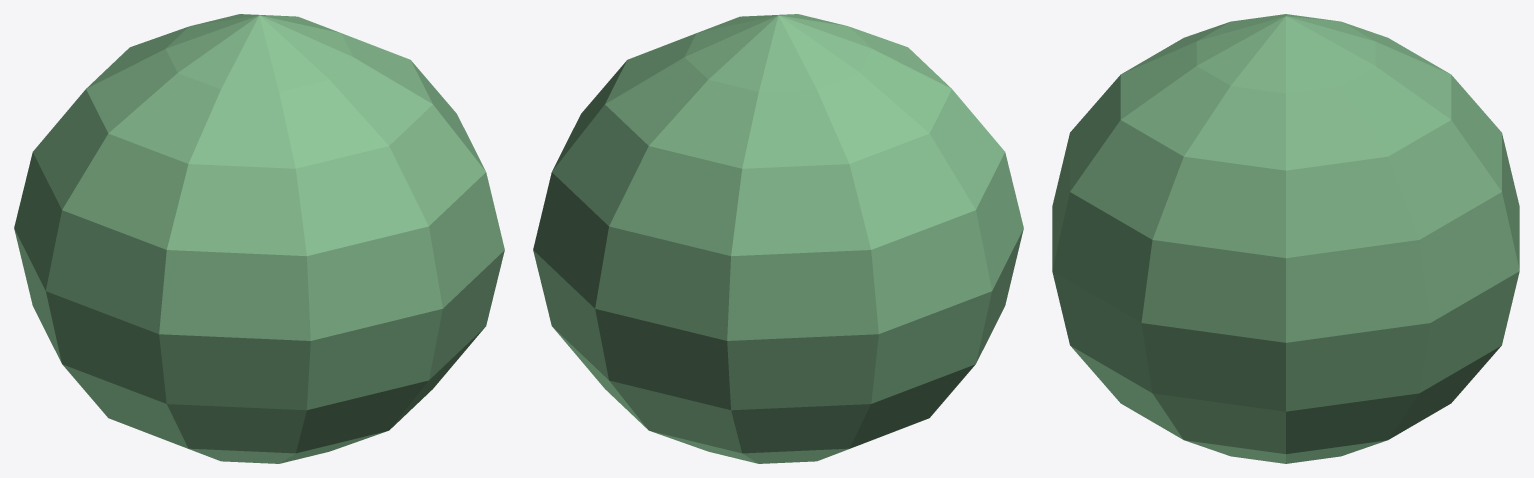
The model's file is sphere_leaf2.gltf.
3 views of the same model, side by side, from view 1: azimuth 30°, elevation 25°; view 2: azimuth 150°, elevation 25°; view 3: azimuth 270°, elevation 25° (orthographic).
Parts seen in each view (by area): view 1: mesh; view 2: mesh; view 3: mesh.
Part boxes in pixels (box(x1,y1,x2,y2)): mesh: box(14, 14, 504, 463); mesh: box(533, 14, 1023, 463); mesh: box(1052, 14, 1519, 463).
Size of the model in its own units: 1.2 by 1.2 by 1.14.
